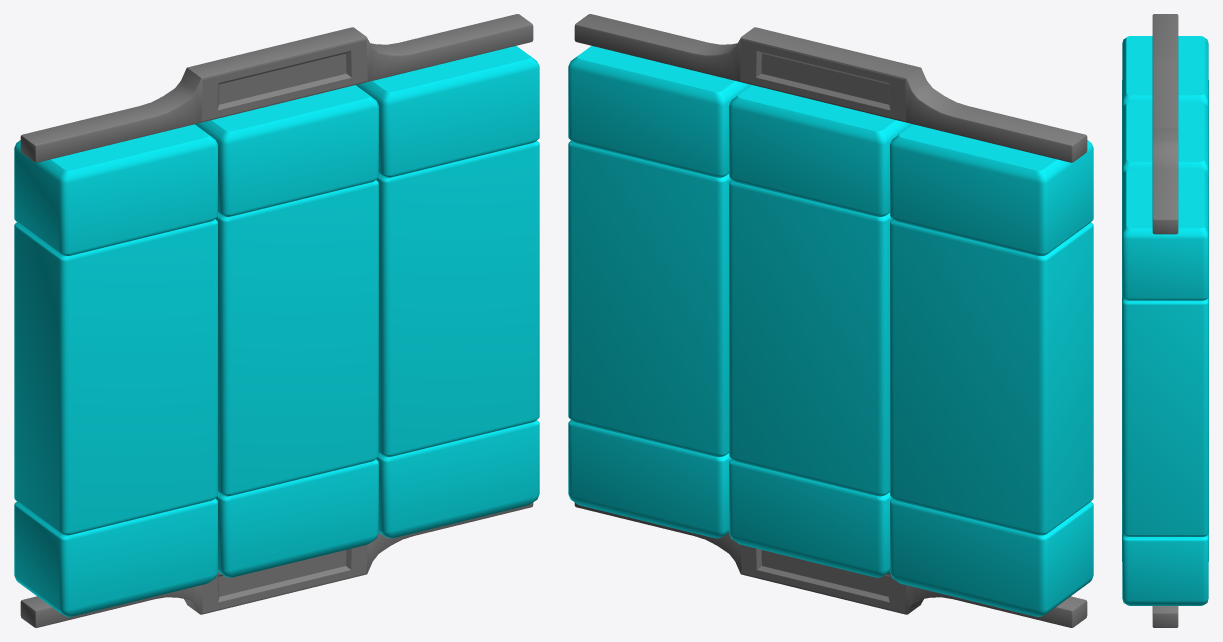
Rendered from plant_grower_3.fbx.
3 views of the same model, side by side, from view 1: azimuth 30°, elevation 25°; view 2: azimuth 150°, elevation 25°; view 3: azimuth 270°, elevation 25° (orthographic). The views are drawn at different scales.
Visible parts, largest first — view 1: plant_grower_3; view 2: plant_grower_3; view 3: plant_grower_3.
Boxes of the visible parts, bbox=[...] form: plant_grower_3: bbox=[14, 14, 539, 627]; plant_grower_3: bbox=[568, 14, 1093, 627]; plant_grower_3: bbox=[1122, 14, 1208, 627].
Bounding box in the file's own units: 3 × 0.5335 × 3.09.
